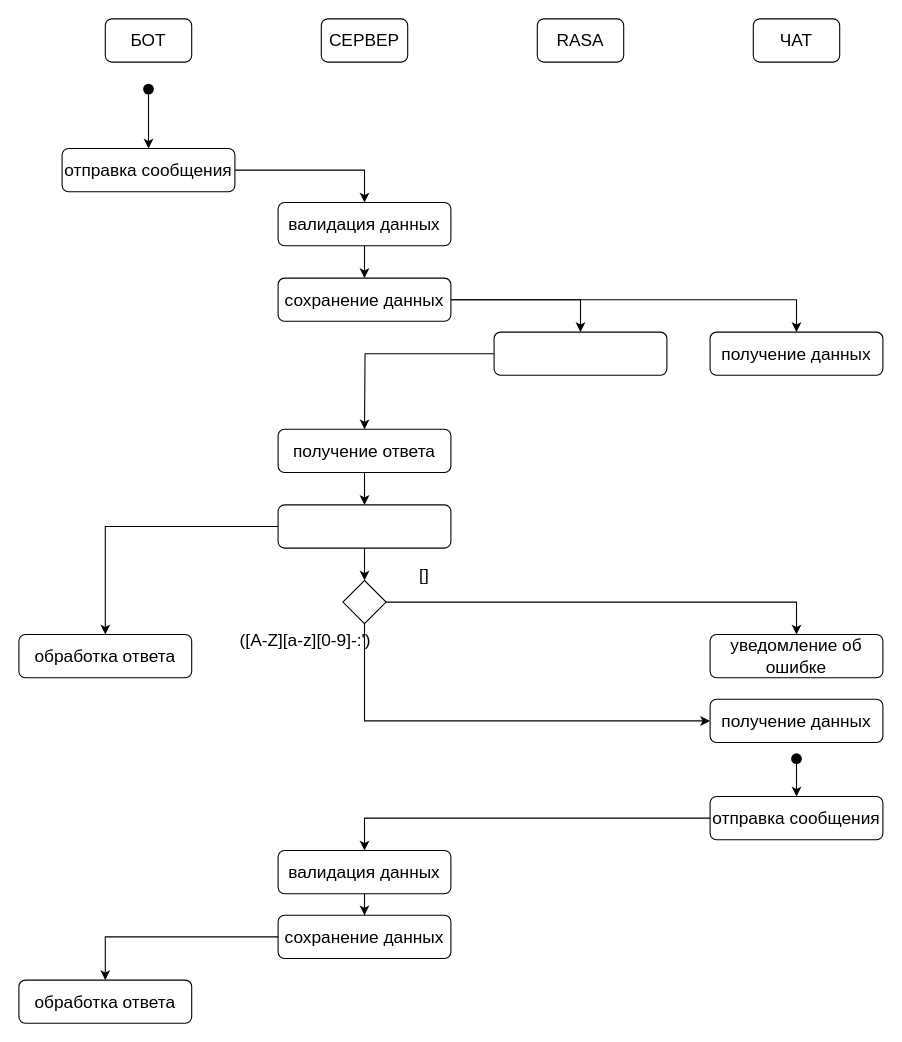
This 902x1042 diagram has some shape labels left out. The box of each missing label's shape, as (x1, y1, x2, y2) in pixels:
обработка сообщения: (493, 331, 667, 375)
сохранение ответа: (277, 504, 451, 548)
